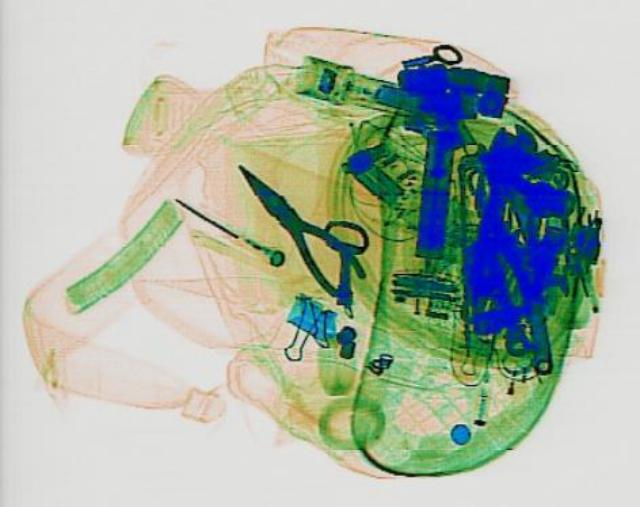Pliers: (216, 152, 376, 299)
Wrench: (478, 121, 574, 374)
